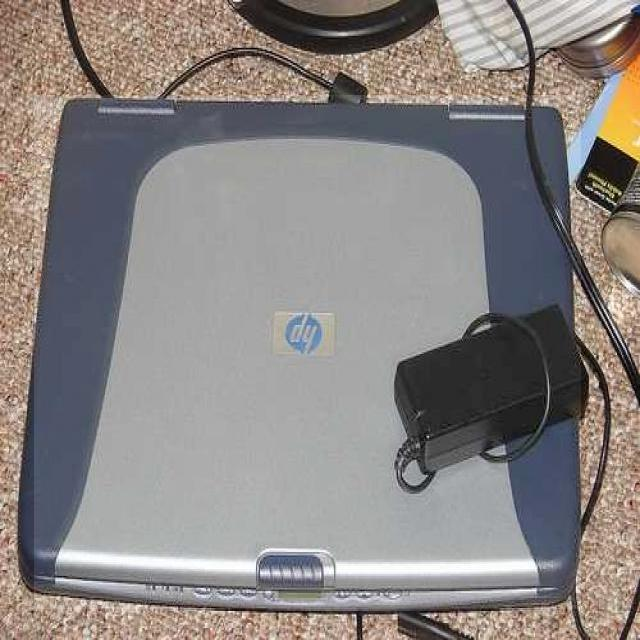-keyboard-: (34, 96, 581, 610)
